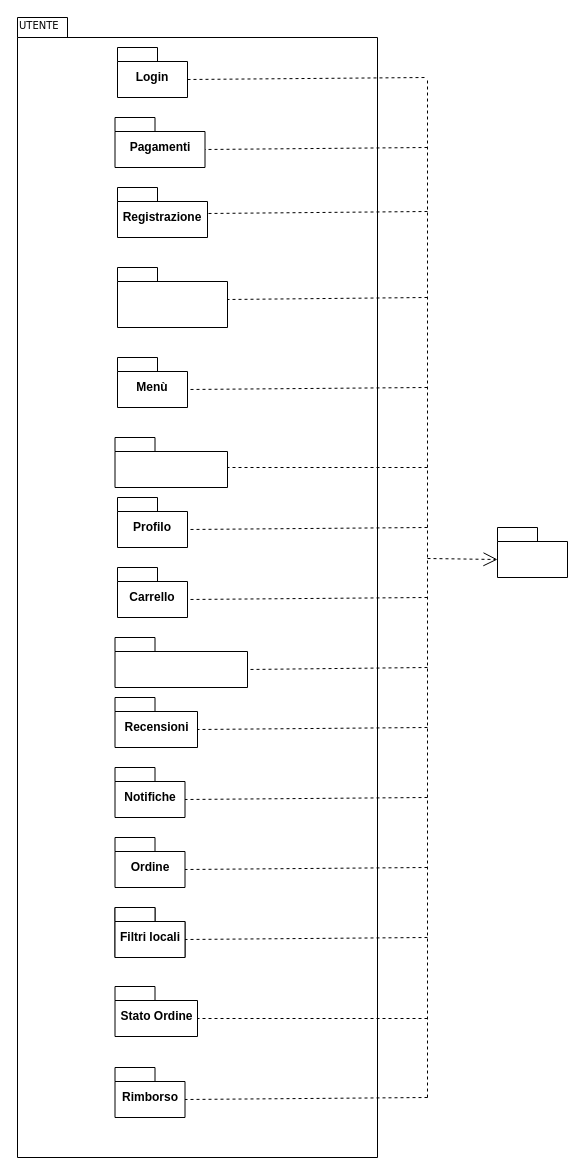
The diagram is 585 pixels wide and 1175 high, and some of its shapes have lost their labels. The box of each missing label's shape, as (x1, y1, x2, y2) in pixels:
Database: (496, 526, 568, 578)
Geolocalizzazione: (116, 266, 228, 328)
Luogo di consegna: (114, 636, 248, 688)
Orari lavoro rider: (114, 436, 228, 488)
